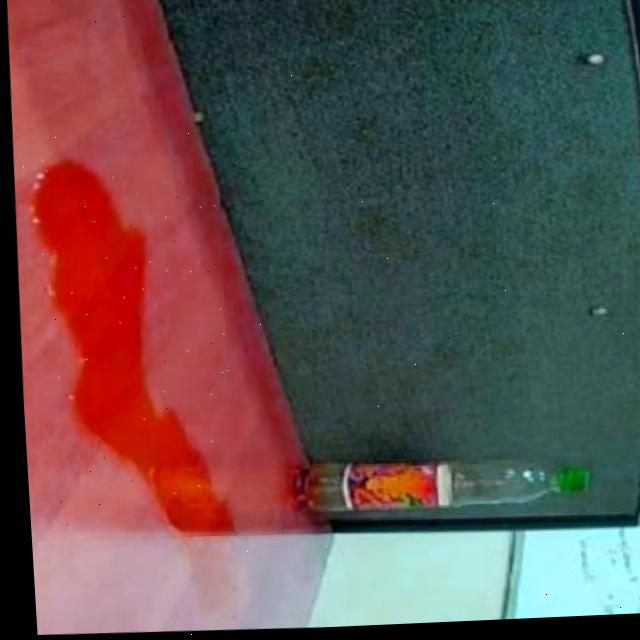spillage: (20, 159, 225, 535)
